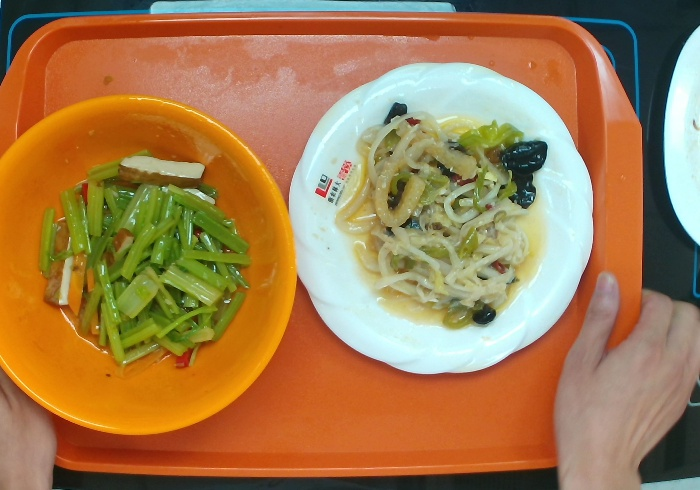ZNLD-Hua_Bian_Wan: (282, 54, 599, 382)
ZNLD-Ju_Se_Tang_Wan: (1, 90, 303, 440)
